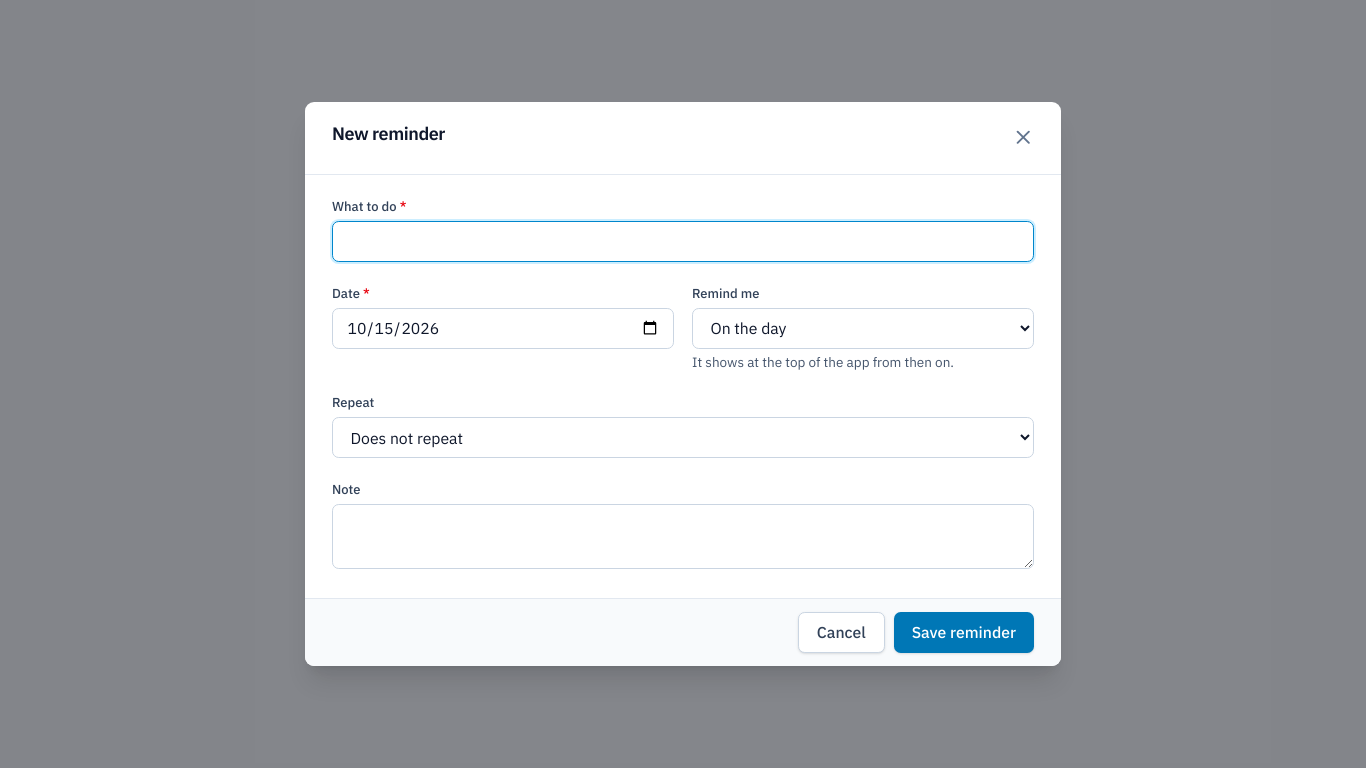
Test: a new reminder › refuses no title or no date
The image size is (1366, 768).
Click the button "Save reminder": {"x": 964, "y": 633} [894, 612, 1034, 653]
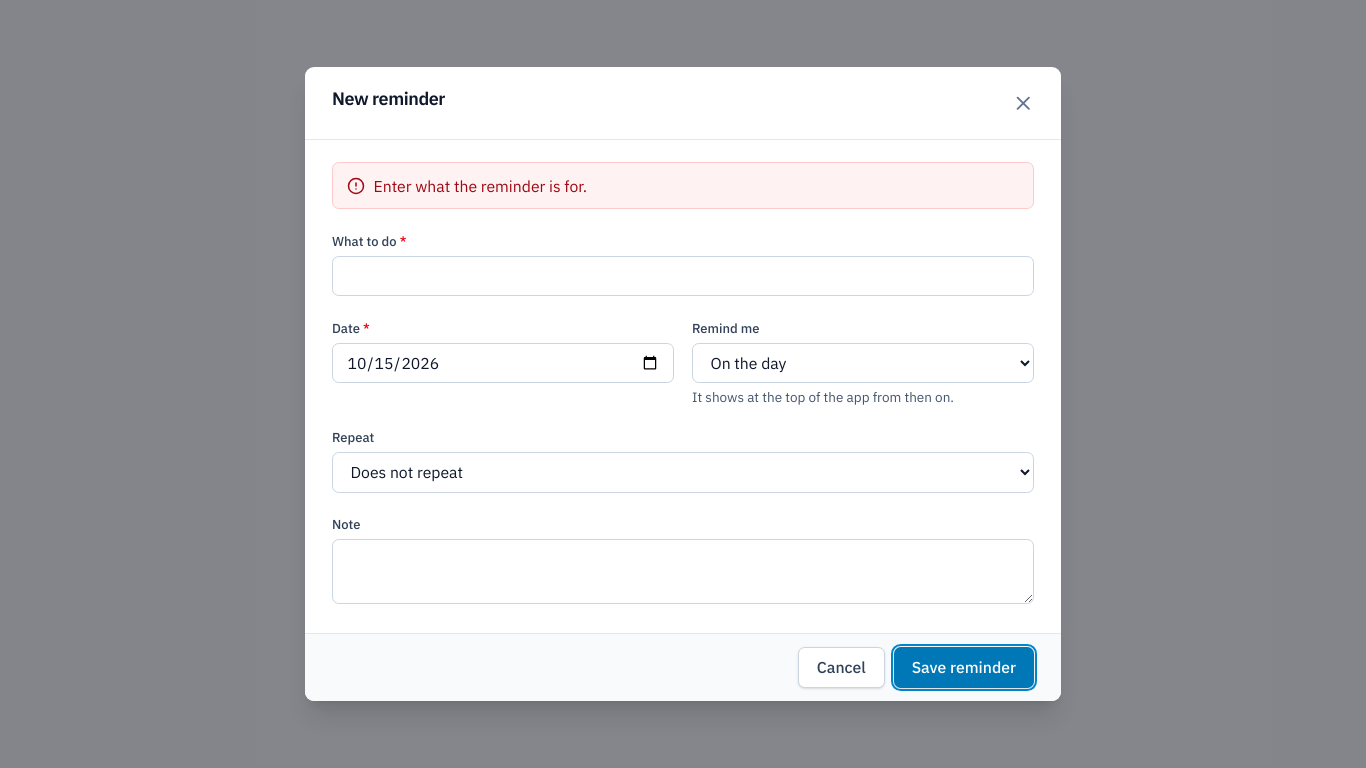
Now the message reads "Enter what the reminder is for.", box [374, 176, 587, 196]
In the field labelled "What to do": {"x": 683, "y": 276} [332, 256, 1034, 296], type "Call"
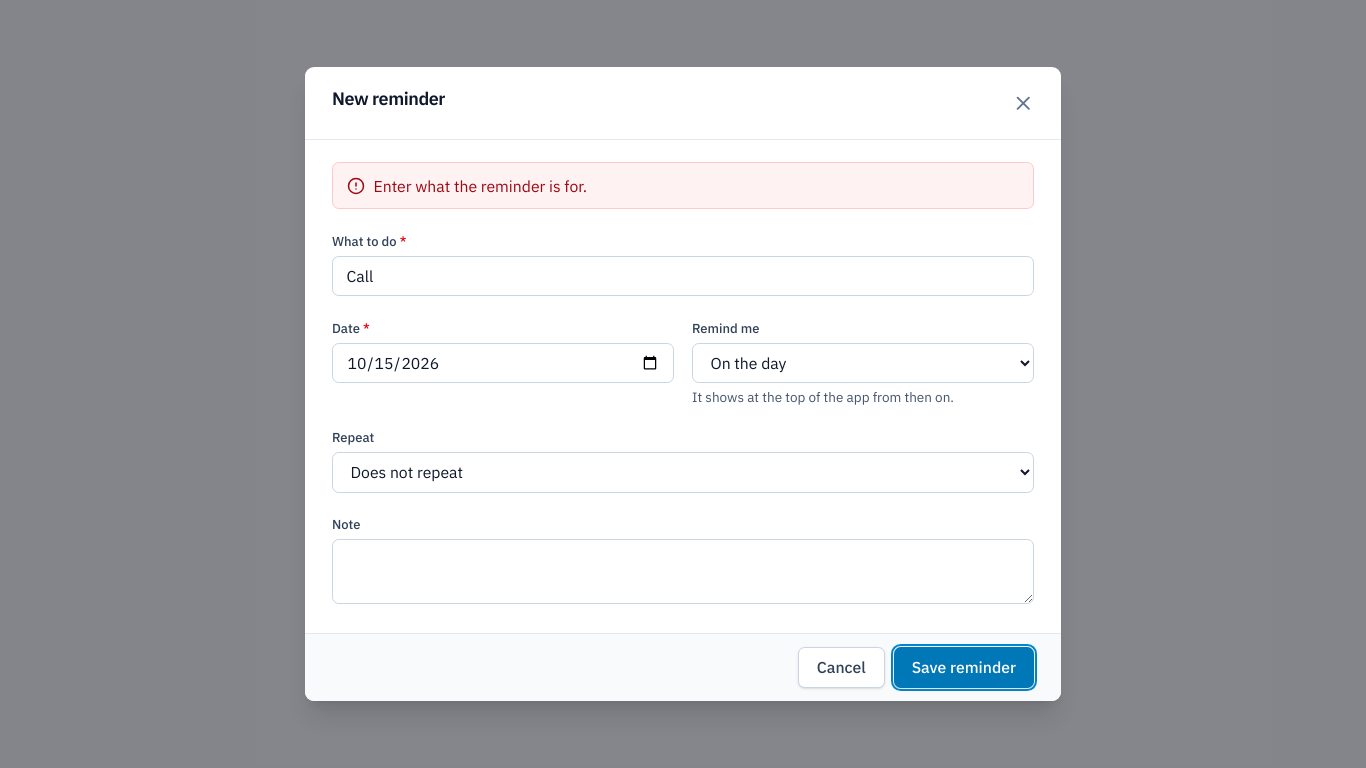
Clear the date field labelled "Date": {"x": 503, "y": 363} [332, 343, 674, 383]
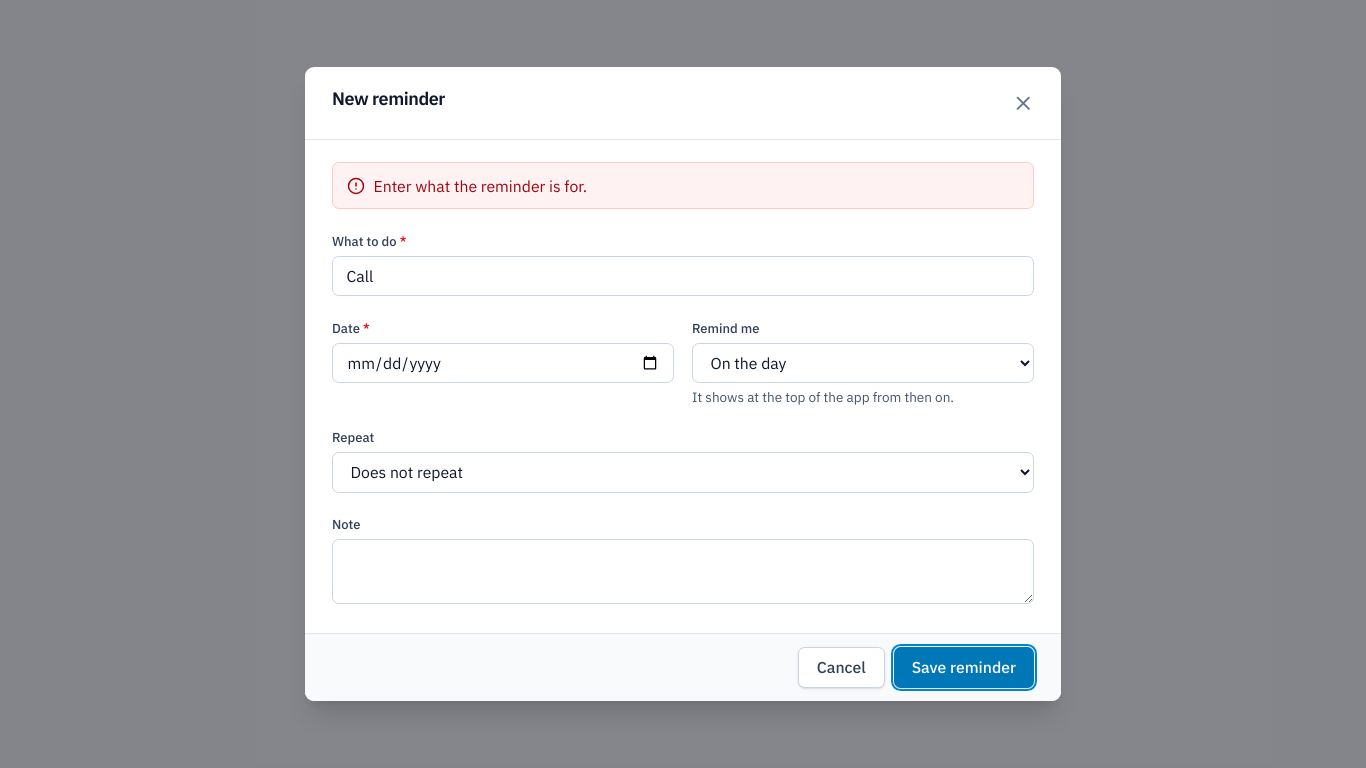
Click the button "Save reminder": {"x": 964, "y": 667} [894, 647, 1034, 688]
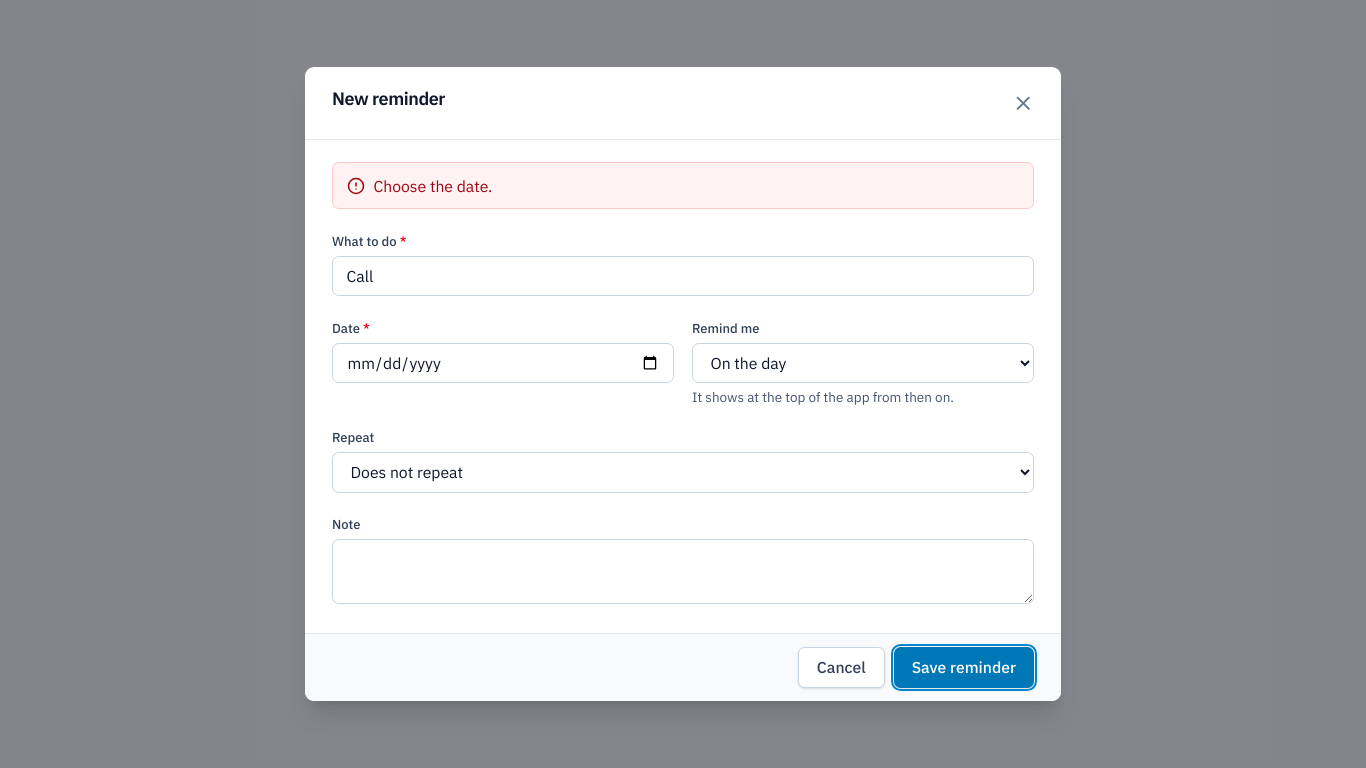
Now the message reads "Choose the date.", box [374, 176, 492, 196]
